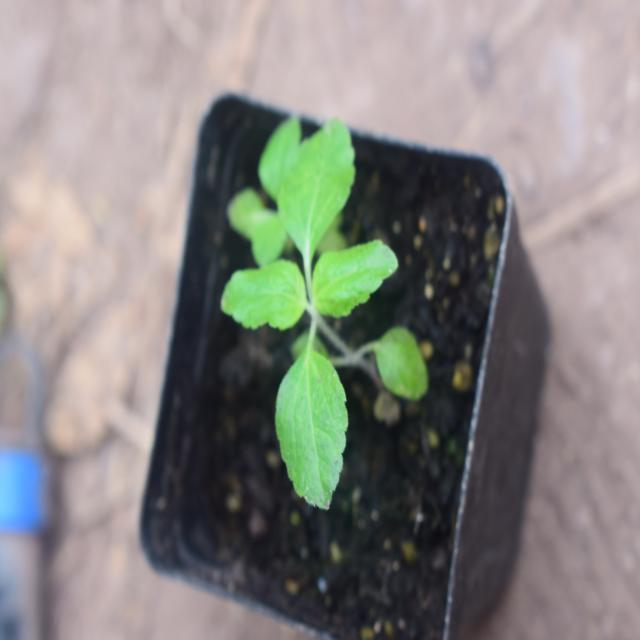billygoat_weed: (225, 115, 423, 487)
